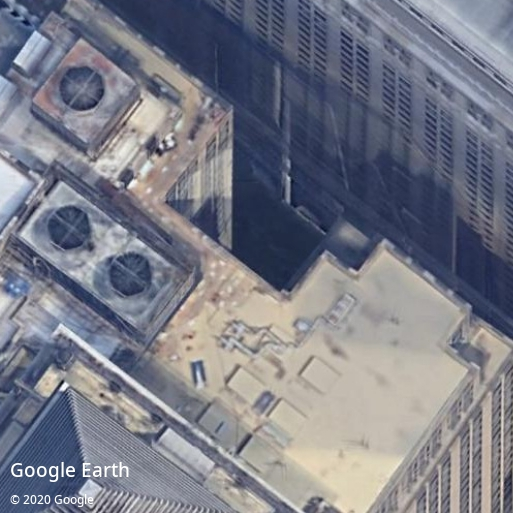Vent: (60, 66, 105, 111), (48, 205, 91, 250), (109, 252, 151, 297)
